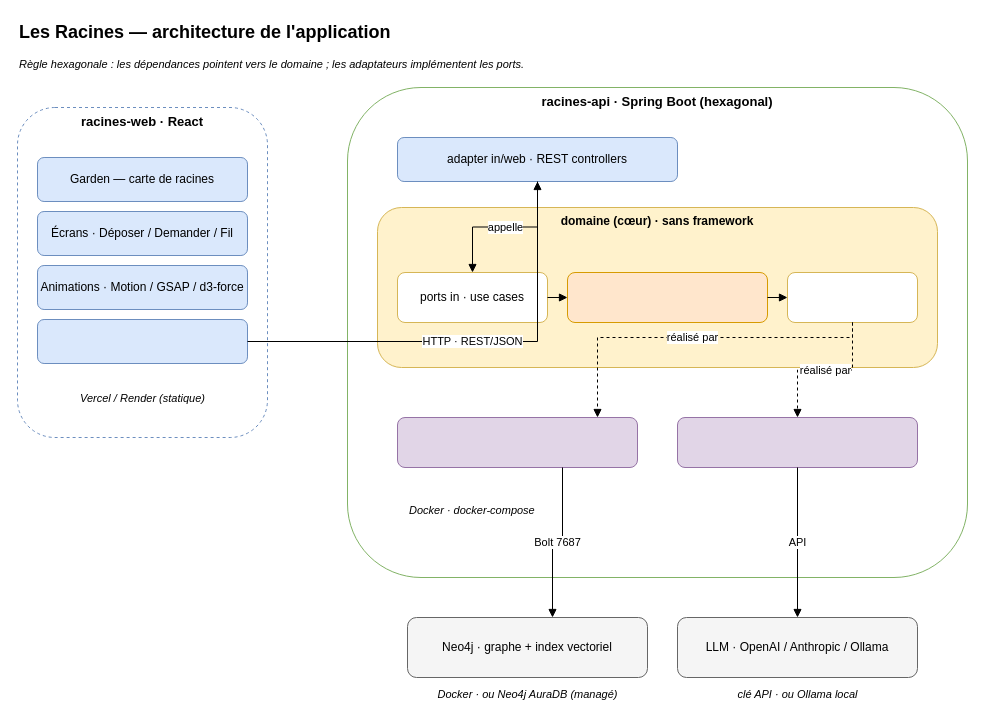
This 985x718 diagram has some shape labels left out. Each missing label, with the centre of its shape:
adapter out/ai · Spring AI: (x=797, y=442)
adapter out/persistence: (x=517, y=442)
api/ — client REST typé: (x=142, y=341)
ports out · interfaces: (x=852, y=297)
services · GraphRagService · Extraction: (x=667, y=297)
